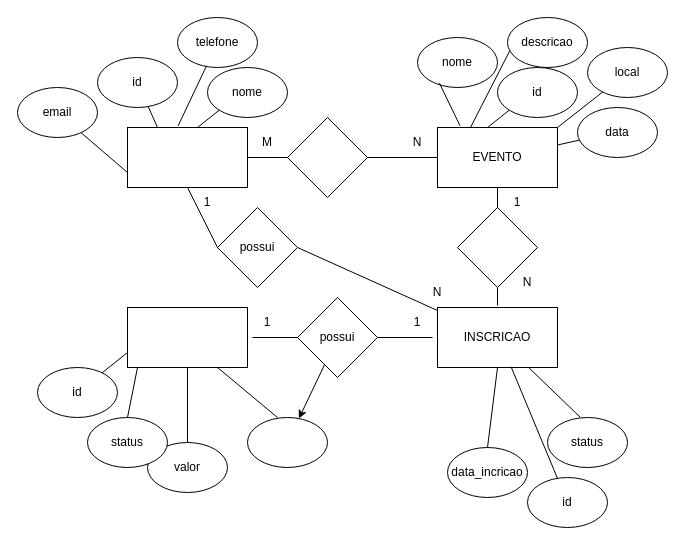
The diagram is 685 pixels wide and 545 high, and some of its shapes have lost their labels. Here are the shapes that lost their labels. From the top down, the centre of each, then its label:
(187,157): PARTICIPANTE
(327,157): inscreve
(497,247): permite
(187,337): PAGAMENTO
(287,442): data_pagamento
